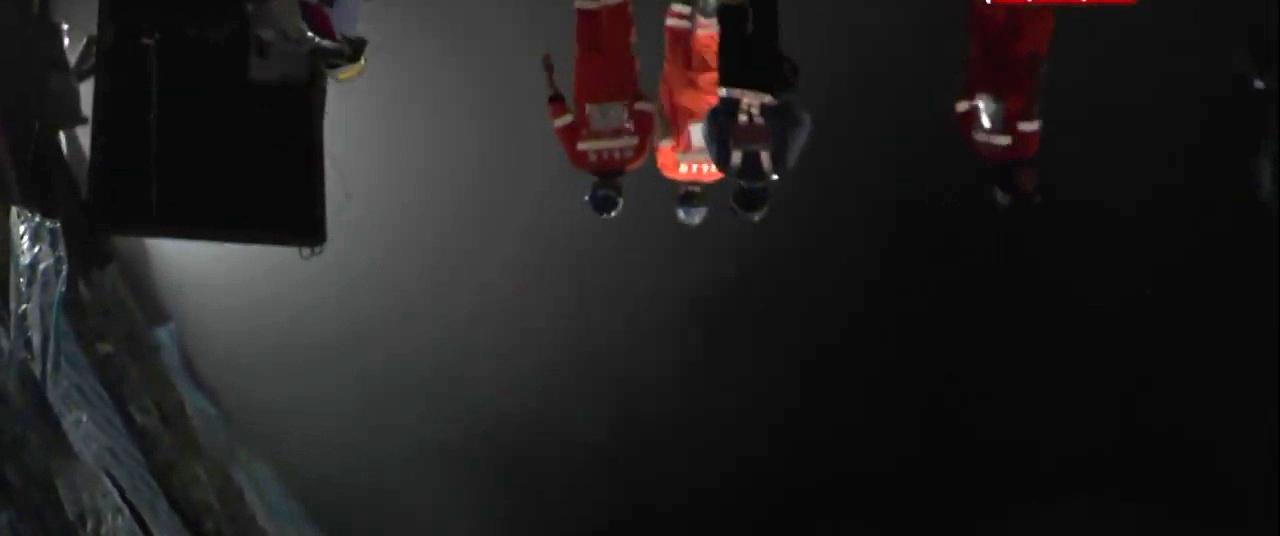helmet: (994, 166, 1044, 214), (588, 176, 624, 220), (730, 186, 769, 223), (674, 190, 708, 227)
